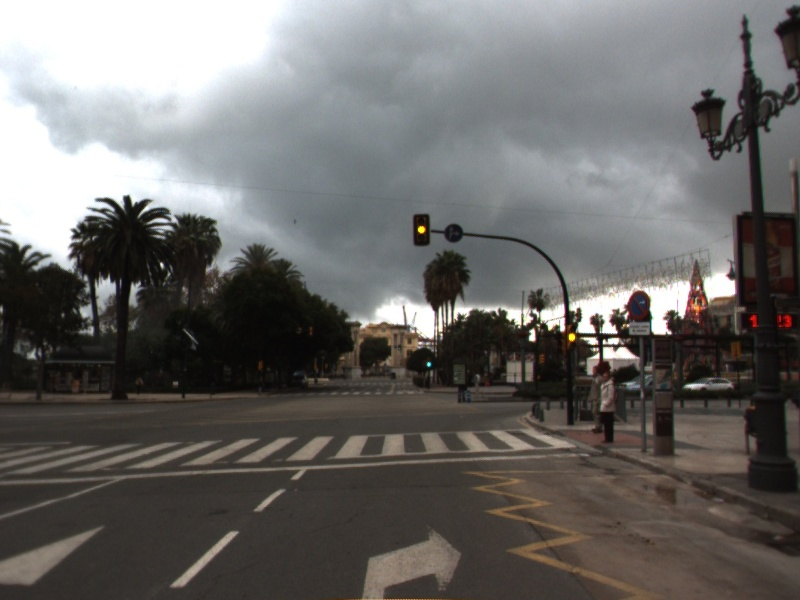RIGHT: (358, 518, 465, 600)
